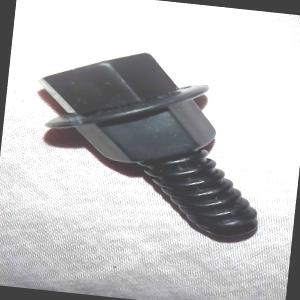parafuso: (24, 41, 274, 244)
